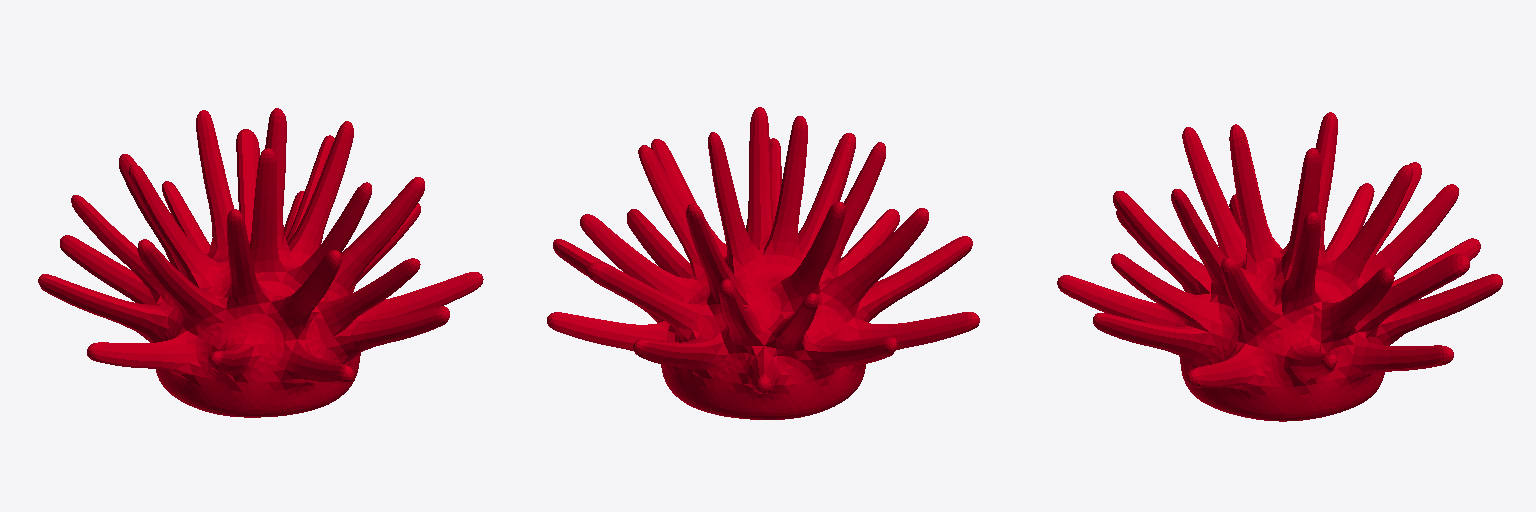
File: seaUrchin.obj
The picture shows the model from 3 angles: view 1: azimuth 30°, elevation 25°; view 2: azimuth 150°, elevation 25°; view 3: azimuth 270°, elevation 25°; orthographic projection.
Visible parts, largest first — view 1: 18765_Pencil_sea_urchin_V1; view 2: 18765_Pencil_sea_urchin_V1; view 3: 18765_Pencil_sea_urchin_V1.
Boxes of the visible parts, x1,y1,x2,y2 form: 18765_Pencil_sea_urchin_V1: [38, 108, 483, 417]; 18765_Pencil_sea_urchin_V1: [547, 107, 979, 419]; 18765_Pencil_sea_urchin_V1: [1057, 112, 1502, 421].
Size of the model in its own units: 2.04 by 1.29 by 2.08.